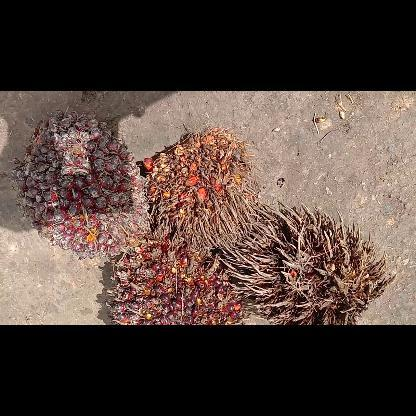Janjang kosong: (222, 202, 394, 324)
Kurang masak: (13, 109, 152, 259)
TBS masak: (106, 234, 248, 324)
Terlalu masak: (142, 126, 260, 250)
